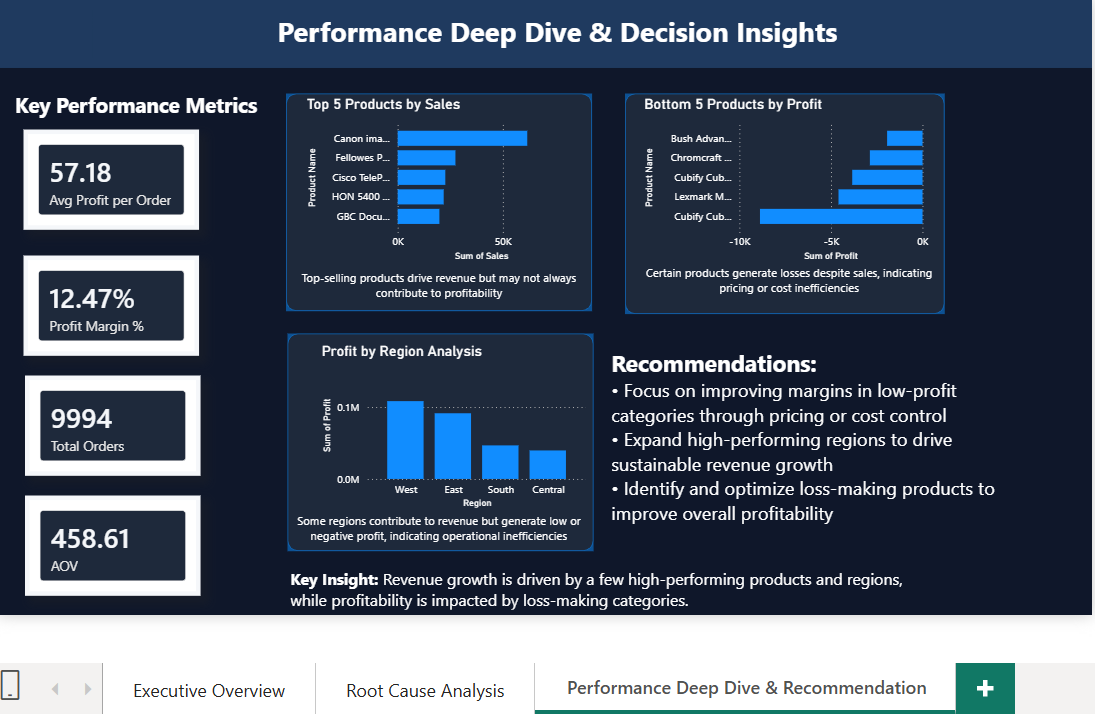

What the dashboard file says about the page in this screenshot:
{"tool":"powerbi","page":{"name":"Performance Deep Dive & Recommendations","canvas":[1280,720],"ordinal":2},"visuals":[{"type":"shape","box":[336.8,110.5,357.9,254.4],"z":0},{"type":"shape","box":[0,0,1280.7,80.7],"z":1000},{"type":"textbox","box":[110.5,10.5,1087.7,57.9],"z":2000},{"type":"cardVisual","fields":{"Data":["Sample - Superstore.Profit Margin %"]},"box":[29.8,300,205.3,117.5],"z":3000},{"type":"cardVisual","fields":{"Data":["CountNonNull(Sample - Superstore.Order ID)"]},"box":[31.6,440.4,205.3,117.5],"z":4000},{"type":"cardVisual","fields":{"Data":["Sample - Superstore.AOV"]},"box":[30.7,580.7,205.3,117.5],"z":5000},{"type":"cardVisual","fields":{"Data":["Sample - Superstore.Avg Profit per Order"]},"box":[29.8,152.6,205.3,117.5],"z":6000},{"type":"clusteredBarChart","title":"Top 5 Products by Sales","fields":{"Category":["Sample - Superstore.Product Name"],"Y":["Sum(Sample - Superstore.Sales)"]},"box":[356.1,112.3,322.8,198.2],"z":7000},{"type":"textbox","box":[322.8,310.5,386,54.4],"z":8000},{"type":"shape","box":[733.3,110.5,373.7,257.9],"z":9000},{"type":"clusteredBarChart","title":"Bottom 5 Products by Profit","fields":{"Category":["Sample - Superstore.Product Name"],"Y":["Sum(Sample - Superstore.Profit)"]},"box":[750.9,112.3,342.1,198.2],"z":10000},{"type":"textbox","box":[733.3,305.3,384.2,52.6],"z":11000},{"type":"shape","box":[338.6,391.2,357.9,254.4],"z":12000},{"type":"clusteredColumnChart","title":"Profit by Region Analysis","fields":{"Category":["Sample - Superstore.Region"],"Y":["Sum(Sample - Superstore.Profit)"]},"box":[373.7,401.8,319.3,198.2],"z":13000},{"type":"textbox","box":[322.8,594.7,386,64.9],"z":14000},{"type":"textbox","box":[712.3,401.8,463.2,226.3],"z":15000},{"type":"textbox","box":[0,101.8,322.8,50.9],"z":16000},{"type":"textbox","box":[336.8,659.6,749.1,59.6],"z":17000}]}

Visuals, with their boxes on the page's 1280x720 design canvas (x1, y1, x2, y2). These are canvas units, not pixel positions in the 1095x714 screenshot, which may show the page scaled, cropped or inside an application window:
shape: select_region(337, 110, 695, 365)
shape: select_region(0, 0, 1281, 81)
textbox: select_region(110, 10, 1198, 68)
cardVisual - Sample - Superstore.Profit Margin %: select_region(30, 300, 235, 418)
cardVisual - CountNonNull(Sample - Superstore.Order ID): select_region(32, 440, 237, 558)
cardVisual - Sample - Superstore.AOV: select_region(31, 581, 236, 698)
cardVisual - Sample - Superstore.Avg Profit per Order: select_region(30, 153, 235, 270)
"Top 5 Products by Sales" clusteredBarChart: select_region(356, 112, 679, 310)
textbox: select_region(323, 310, 709, 365)
shape: select_region(733, 110, 1107, 368)
"Bottom 5 Products by Profit" clusteredBarChart: select_region(751, 112, 1093, 310)
textbox: select_region(733, 305, 1118, 358)
shape: select_region(339, 391, 696, 646)
"Profit by Region Analysis" clusteredColumnChart: select_region(374, 402, 693, 600)
textbox: select_region(323, 595, 709, 660)
textbox: select_region(712, 402, 1176, 628)
textbox: select_region(0, 102, 323, 153)
textbox: select_region(337, 660, 1086, 719)
